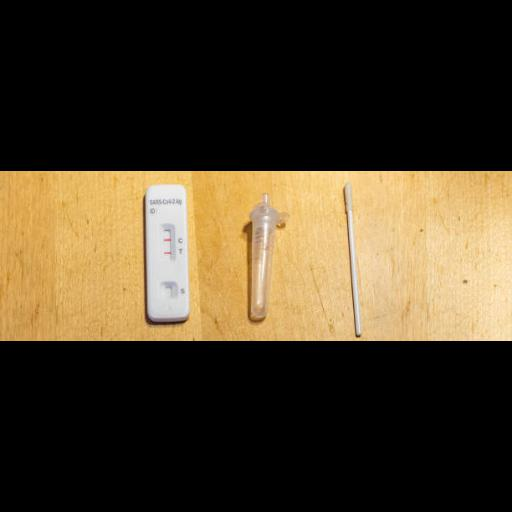Pos: (146, 184, 188, 316)
